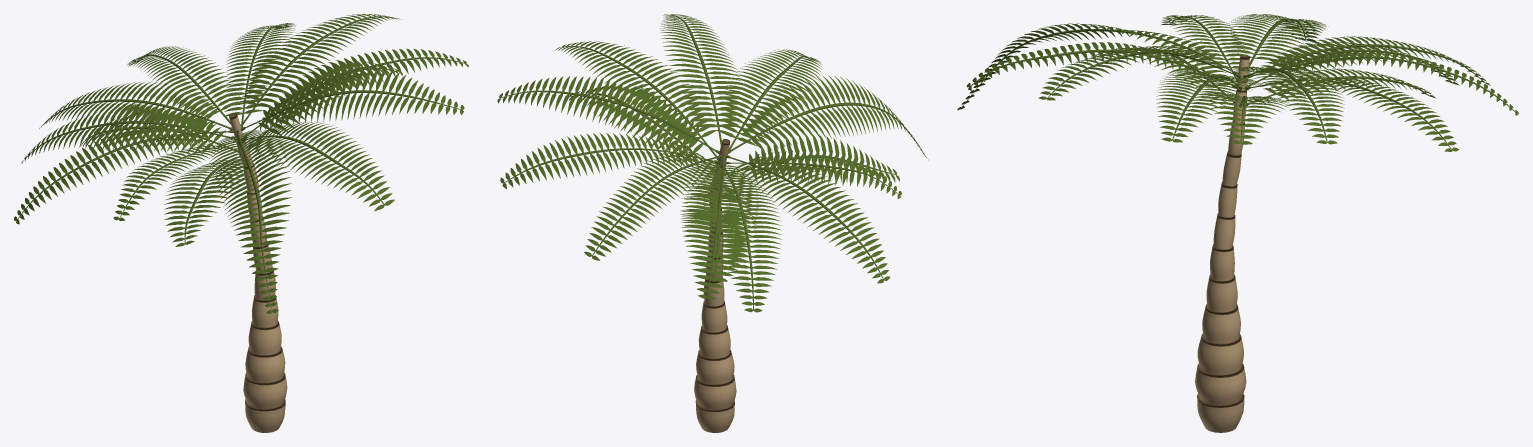
File: palmTree.fbx
3 views of the same model, side by side, from view 1: azimuth 30°, elevation 25°; view 2: azimuth 150°, elevation 25°; view 3: azimuth 270°, elevation 25° (orthographic). The views are drawn at different scales.
Visible parts, largest first — view 1: Mesh; view 2: Mesh; view 3: Mesh.
Part boxes in pixels (left/top/right/bottom): Mesh: left=14, top=14, right=468, bottom=432; Mesh: left=497, top=14, right=928, bottom=432; Mesh: left=957, top=14, right=1518, bottom=432.
Size of the model in its own units: 16.54 by 14.38 by 17.59.
